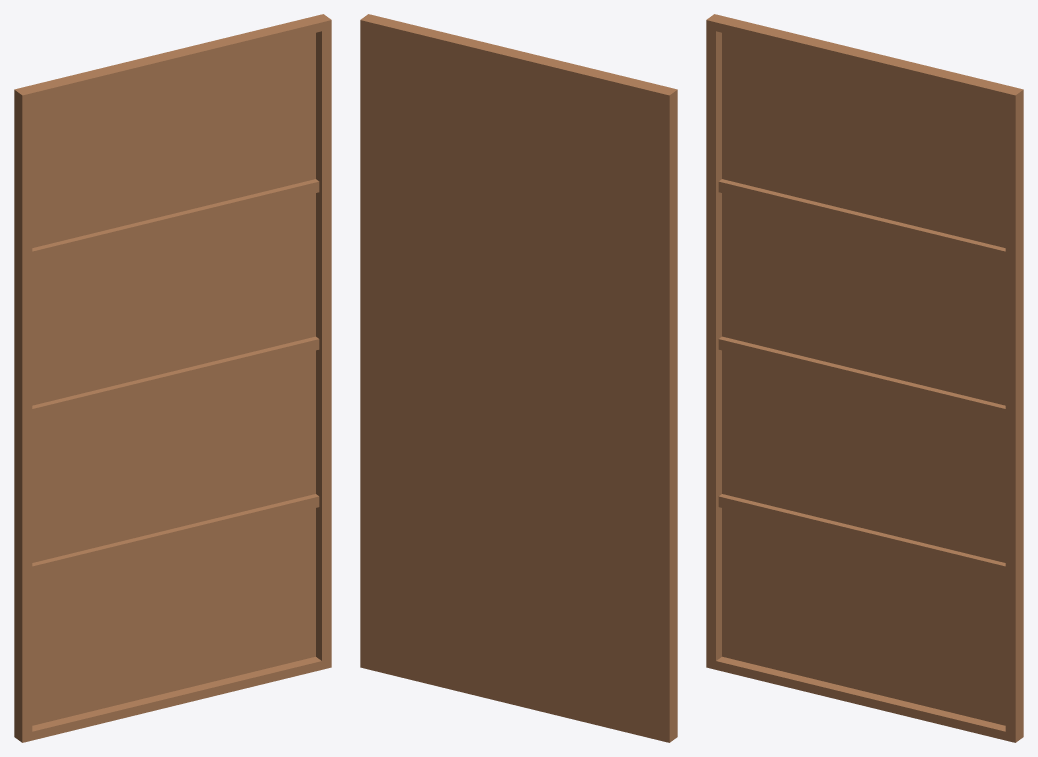
File: Panel8by4.fbx
3 views of the same model, side by side, from view 1: azimuth 30°, elevation 25°; view 2: azimuth 150°, elevation 25°; view 3: azimuth 330°, elevation 25° (orthographic).
Parts seen in each view (by area): view 1: Panel8by4; view 2: Panel8by4; view 3: Panel8by4.
Boxes of the visible parts, bbox=[...] form: Panel8by4: bbox=[14, 14, 331, 742]; Panel8by4: bbox=[360, 14, 677, 742]; Panel8by4: bbox=[706, 14, 1023, 742].
Bounding box in the file's own units: 112 × 5.16 × 224.
